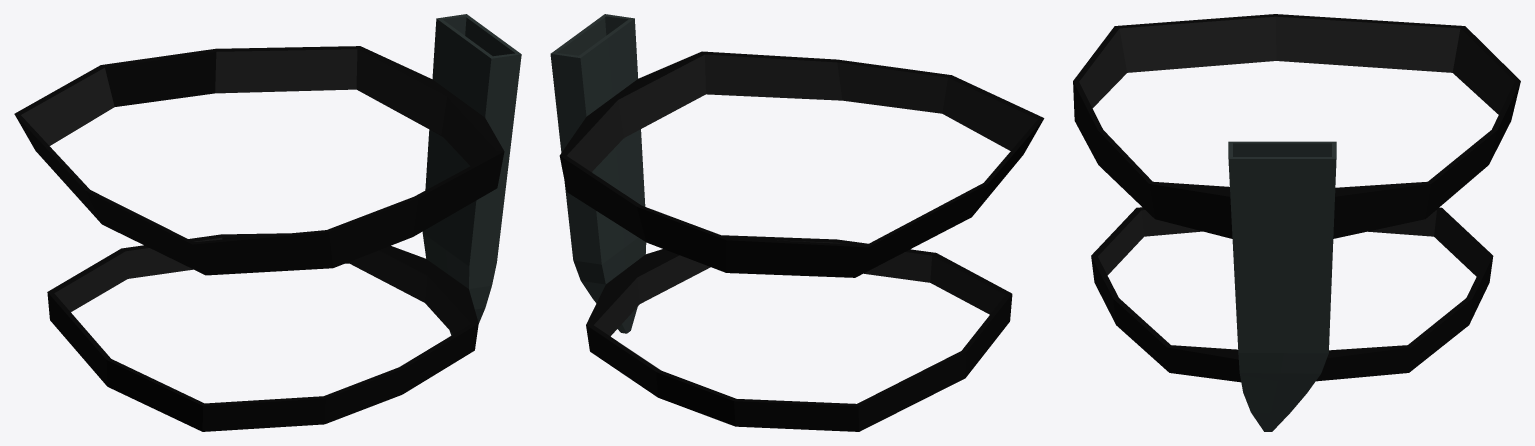
Rendered from Knife Holster01.fbx.
The picture shows the model from 3 angles, left to right: view 1: azimuth 30°, elevation 25°; view 2: azimuth 150°, elevation 25°; view 3: azimuth 270°, elevation 25°; orthographic projection.
Parts seen in each view (by area): view 1: Character.001; view 2: Character.001; view 3: Character.001.
Part boxes in pixels (bbox=[...]): Character.001: bbox=[14, 14, 521, 431]; Character.001: bbox=[550, 14, 1044, 431]; Character.001: bbox=[1073, 14, 1520, 431].
Bounding box in the file's own units: 0.2308 × 0.1605 × 0.2213.
